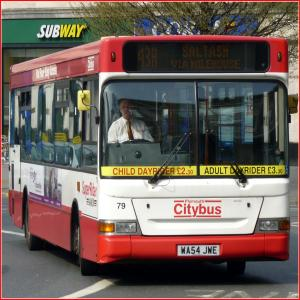Vehicle-registration-plate: (177, 246, 220, 257)
